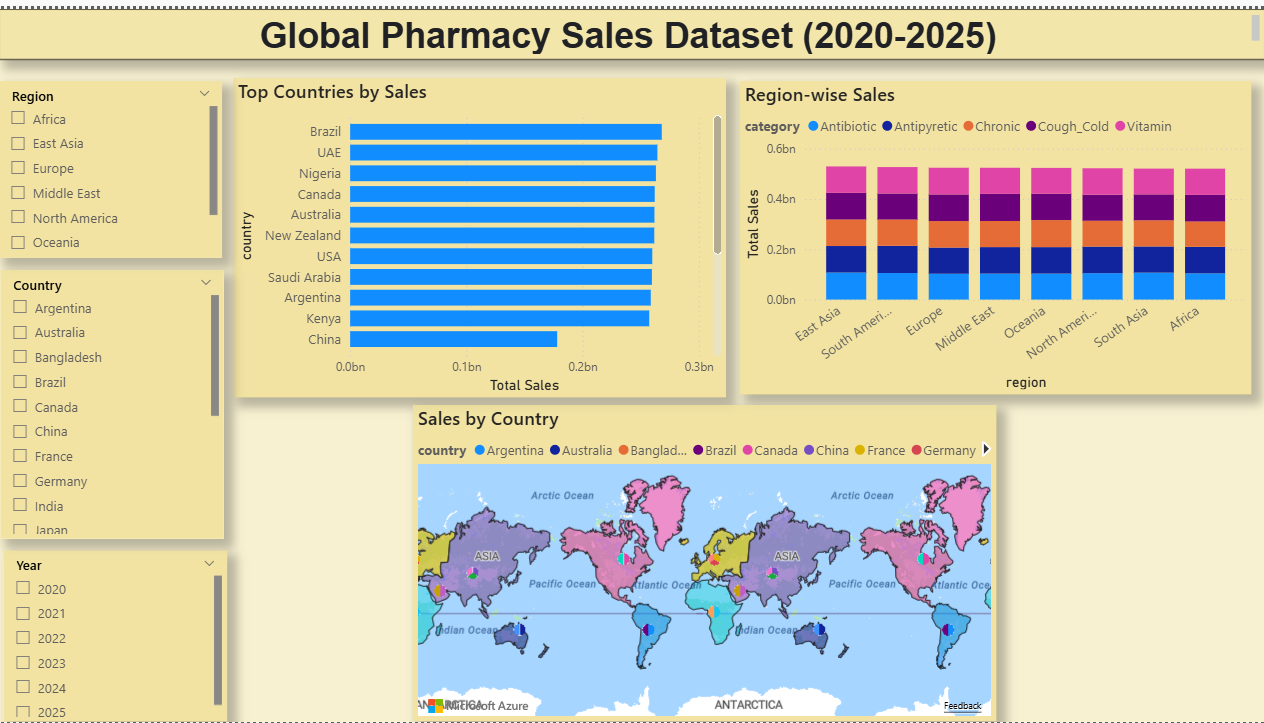

The dashboard page shown, as its layout file describes it:
{"tool":"powerbi","page":{"name":"REGION & COUNTRY ANALYSIS","canvas":[1280,720],"ordinal":3},"visuals":[{"type":"textbox","box":[0,0,1279.5,51.5],"z":0},{"type":"barChart","title":"Top Countries by Sales","fields":{"Category":["global_pharmacy_sales_2020_2025.country"],"Y":["global_pharmacy_sales_2020_2025.Total Sales"]},"box":[236.2,69.7,498.2,322.5],"z":2000},{"type":"columnChart","title":"Region‑wise Sales","fields":{"Y":["global_pharmacy_sales_2020_2025.Total Sales"],"Category":["global_pharmacy_sales_2020_2025.region"],"Series":["global_pharmacy_sales_2020_2025.category"]},"box":[748,72.7,516.3,316.5],"z":3000},{"type":"slicer","fields":{"Values":["global_pharmacy_sales_2020_2025.region"]},"box":[0,72.7,225.6,178.7],"z":4000},{"type":"slicer","fields":{"Values":["global_pharmacy_sales_2020_2025.country"]},"box":[1.5,263.5,225.6,271],"z":5000},{"type":"slicer","fields":{"Values":["global_pharmacy_sales_2020_2025.year"]},"box":[4.5,547,225.8,172.7],"z":6000},{"type":"azureMap","title":"Sales by Country","fields":{"Category":["global_pharmacy_sales_2020_2025.region"],"Series":["global_pharmacy_sales_2020_2025.country"]},"box":[417.9,399.8,589,319.5],"z":7000}]}

Visuals, with their boxes on the page's 1280x720 design canvas (x1, y1, x2, y2). These are canvas units, not pixel positions in the 1264x723 screenshot, which may show the page scaled, cropped or inside an application window:
textbox: box=[0, 0, 1280, 52]
"Top Countries by Sales" barChart: box=[236, 70, 734, 392]
"Region‑wise Sales" columnChart: box=[748, 73, 1264, 389]
slicer - global_pharmacy_sales_2020_2025.region: box=[0, 73, 226, 251]
slicer - global_pharmacy_sales_2020_2025.country: box=[2, 264, 227, 534]
slicer - global_pharmacy_sales_2020_2025.year: box=[4, 547, 230, 720]
"Sales by Country" azureMap: box=[418, 400, 1007, 719]
